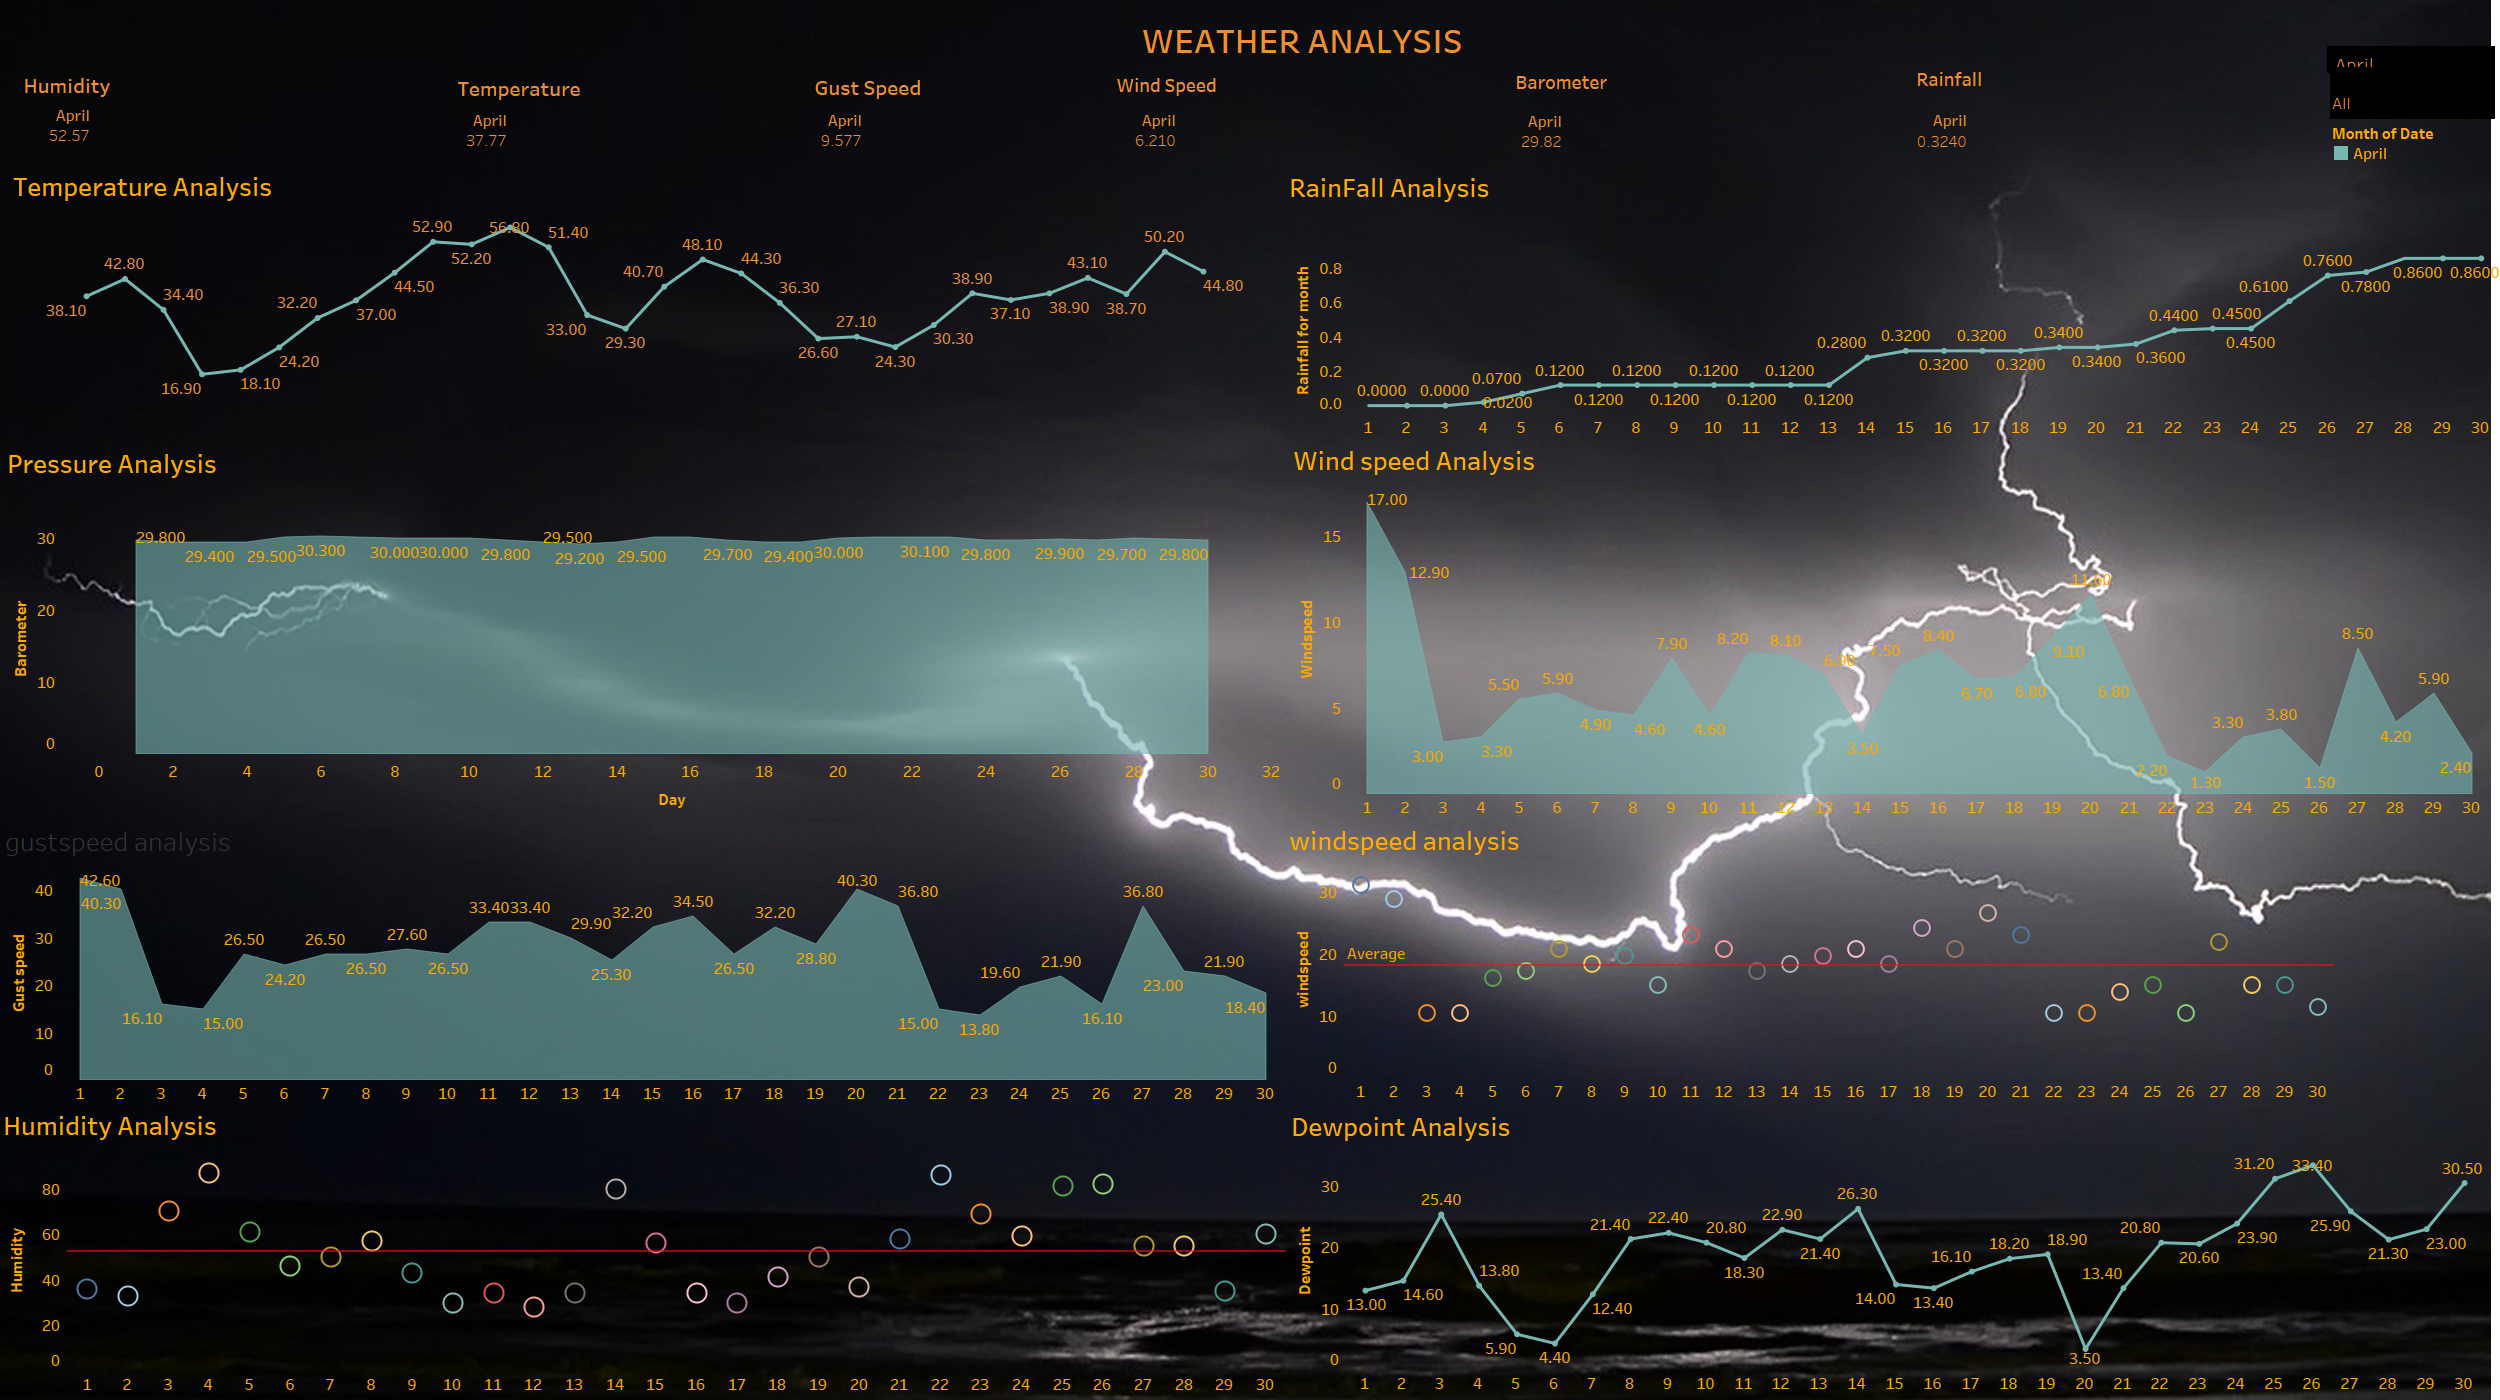

The page's visual inventory and layout, read from the dashboard file:
{"tool":"tableau","page":{"name":"Dashboard 1","canvas":[2500,1400],"ordinal":0},"visuals":[{"type":"text","box":[1102.4,3.9,400,71.4]},{"type":"filter","title":"Sheet 10","param":"[federated.0jsqtw80ryvr9v18d5jj30ukak3k].[mn:Date:ok]","box":[2327.4,46.3,167.9,27]},{"type":"text","box":[1913.1,52.1,158.3,54.1]},{"type":"text","box":[1511.9,55,158.3,54.1]},{"type":"text","box":[1113.1,57.9,169.1,54.1]},{"type":"worksheet","title":"Sheet 14","mark":"Automatic","cols":["Date"],"box":[1883.3,59,438.1,93]},{"type":"worksheet","title":"Sheet 13","mark":"Automatic","cols":["Date"],"box":[1477.4,60.8,432.2,92.7]},{"type":"text","box":[20.2,65.7,214.3,38.6]},{"type":"text","box":[453.6,67.6,277.4,40.6]},{"type":"text","box":[810.7,70.5,188.1,33.8]},{"type":"filter","title":"Sheet1","param":"[federated.0jsqtw80ryvr9v18d5jj30ukak3k].[dy:Date:ok]","box":[2329.8,71.4,165.5,47.3]},{"type":"worksheet","title":"Sheet 12","mark":"Automatic","cols":["Date"],"box":[1103.6,94.6,370.2,58.9]},{"type":"worksheet","title":"Sheet 9","mark":"Automatic","cols":["Date"],"box":[14.3,105.2,407.2,53.1]},{"type":"worksheet","title":"Sheet 10","mark":"Automatic","cols":["Date"],"box":[440.5,110.1,359.5,47.3]},{"type":"worksheet","title":"Sheet 11","mark":"Automatic","cols":["Date"],"box":[806,110.1,292.9,46.3]},{"type":"legend","title":"Sheet 6","param":"[federated.0jsqtw80ryvr9v18d5jj30ukak3k].[mn:Date:ok]","box":[2331,120.7,165.5,104.3]},{"type":"worksheet","title":"Sheet1","mark":"Automatic","rows":["Average temperature"],"cols":["Date","Date"],"box":[7.4,163.3,1276.5,276.3]},{"type":"worksheet","title":"Sheet 2","mark":"Automatic","rows":["Rainfall for month"],"cols":["Date","Date"],"box":[1285.3,164.3,1214.7,275.3]},{"type":"worksheet","title":"Sheet 4","mark":"Area","rows":["Average windspeed"],"cols":["Date","Date"],"box":[1289.3,437.4,1202.4,382.3]},{"type":"worksheet","title":"Sheet 5","mark":"Area","rows":["Average barometer"],"cols":["Date","Date"],"box":[3,439.6,1279.4,377.1]},{"type":"worksheet","title":"Sheet 8","mark":"Shape","rows":["Maximum windspeed"],"cols":["Date","Date"],"box":[1285,817,1213,286]},{"type":"worksheet","title":"Sheet 7","mark":"Area","rows":["Maximum gust speed"],"cols":["Date","Date"],"box":[1.5,817.6,1285.3,287.5]},{"type":"worksheet","title":"Sheet 6","mark":"Line","rows":["Average dewpoint"],"cols":["Date","Date"],"box":[1286.8,1103.2,1195.6,292.1]}]}

Visuals, with their boxes in screenshot pixels (x1, y1, x2, y2), scaled from the page's 2500x1400 canvas onto the 2500x1400 screenshot:
text: (x1=1102, y1=4, x2=1502, y2=75)
"Sheet 10" filter: (x1=2327, y1=46, x2=2495, y2=73)
text: (x1=1913, y1=52, x2=2071, y2=106)
text: (x1=1512, y1=55, x2=1670, y2=109)
text: (x1=1113, y1=58, x2=1282, y2=112)
"Sheet 14" worksheet: (x1=1883, y1=59, x2=2321, y2=152)
"Sheet 13" worksheet: (x1=1477, y1=61, x2=1910, y2=154)
text: (x1=20, y1=66, x2=234, y2=104)
text: (x1=454, y1=68, x2=731, y2=108)
text: (x1=811, y1=70, x2=999, y2=104)
"Sheet1" filter: (x1=2330, y1=71, x2=2495, y2=119)
"Sheet 12" worksheet: (x1=1104, y1=95, x2=1474, y2=154)
"Sheet 9" worksheet: (x1=14, y1=105, x2=422, y2=158)
"Sheet 10" worksheet: (x1=440, y1=110, x2=800, y2=157)
"Sheet 11" worksheet: (x1=806, y1=110, x2=1099, y2=156)
"Sheet 6" legend: (x1=2331, y1=121, x2=2496, y2=225)
"Sheet1" worksheet: (x1=7, y1=163, x2=1284, y2=440)
"Sheet 2" worksheet: (x1=1285, y1=164, x2=2499, y2=440)
"Sheet 4" worksheet (Area marks): (x1=1289, y1=437, x2=2492, y2=820)
"Sheet 5" worksheet (Area marks): (x1=3, y1=440, x2=1282, y2=817)
"Sheet 8" worksheet (Shape marks): (x1=1285, y1=817, x2=2498, y2=1103)
"Sheet 7" worksheet (Area marks): (x1=2, y1=818, x2=1287, y2=1105)
"Sheet 6" worksheet (Line marks): (x1=1287, y1=1103, x2=2482, y2=1395)
